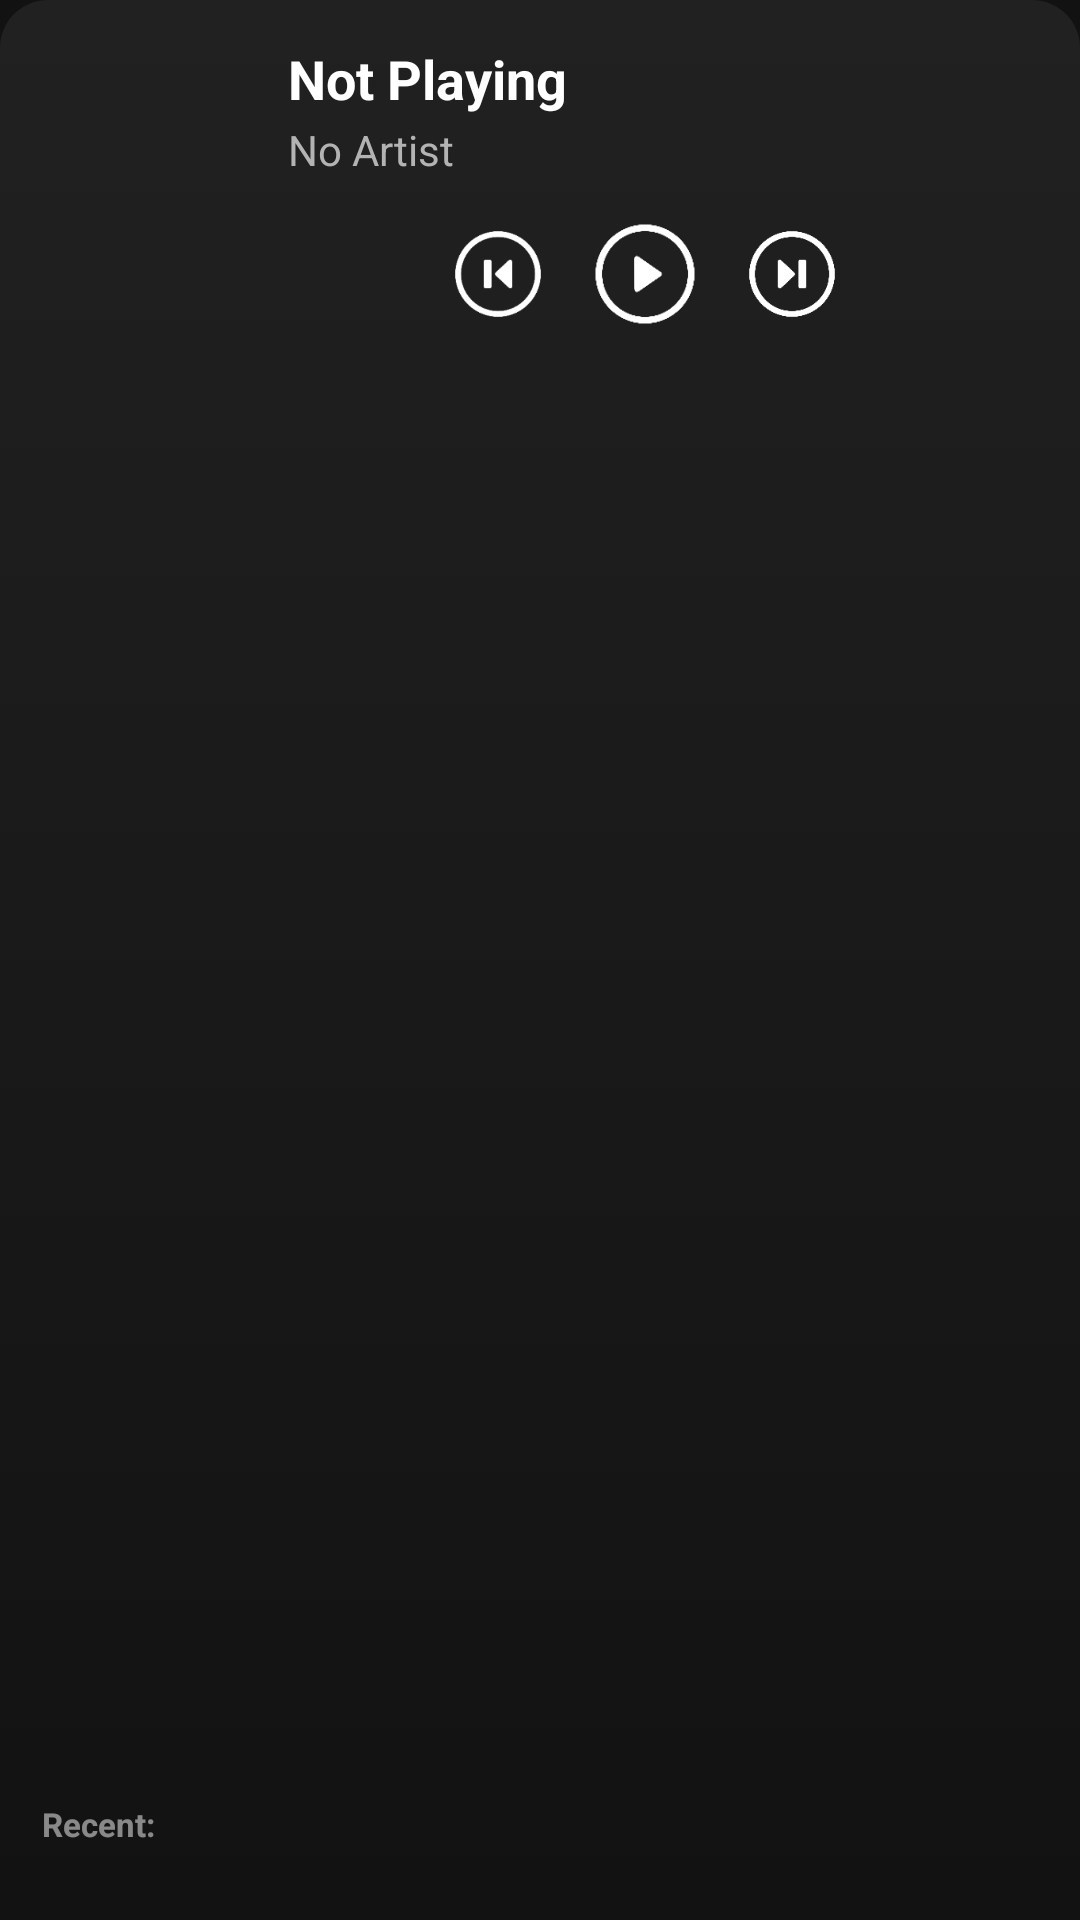

Icon bounding boxes for this 1080px×1920px phone screenshot, format [left=x1, top=y1, right=x2, bottom=y2]:
next: [left=749, top=231, right=835, bottom=317]
prev: [left=455, top=231, right=541, bottom=317]
